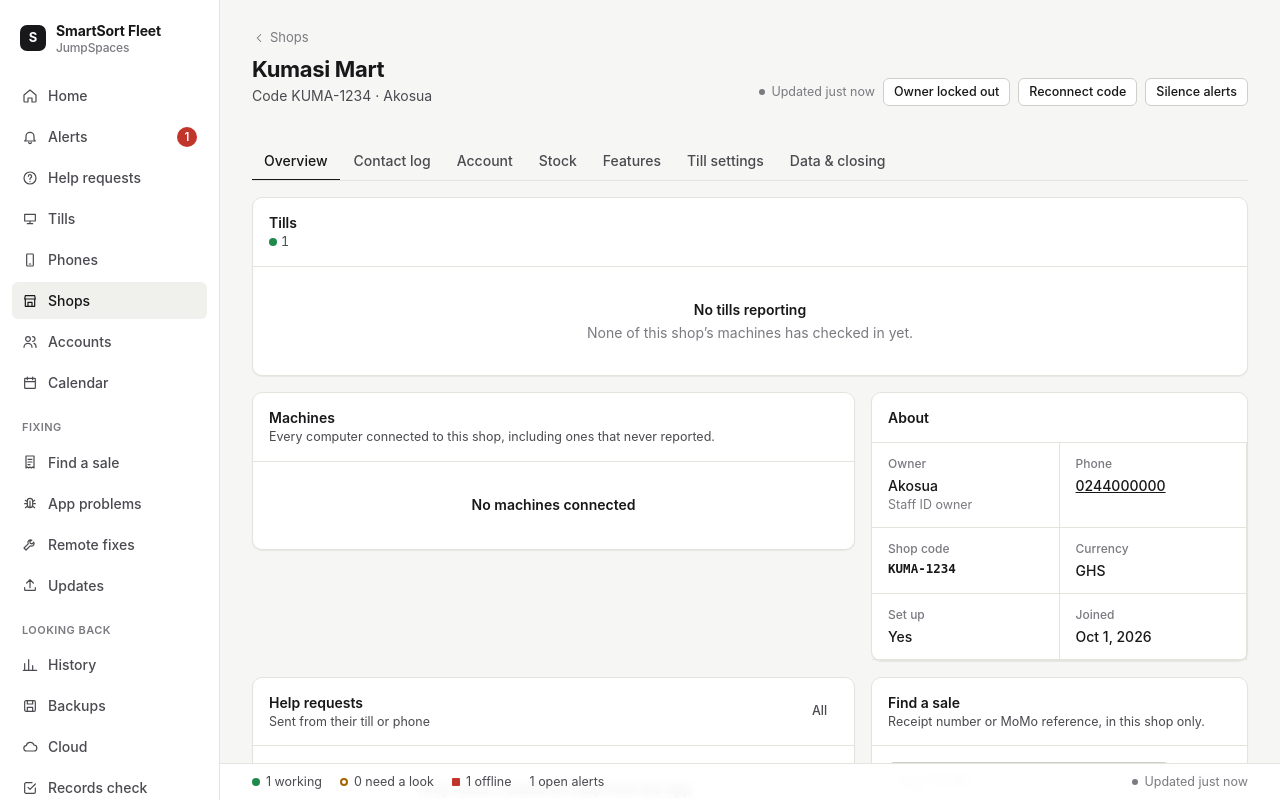
Test case: owner locked out › makes a reset code only with the operator’s password, and shows it once
Click the button "Owner locked out" at (947, 92), box [883,78,1010,106]
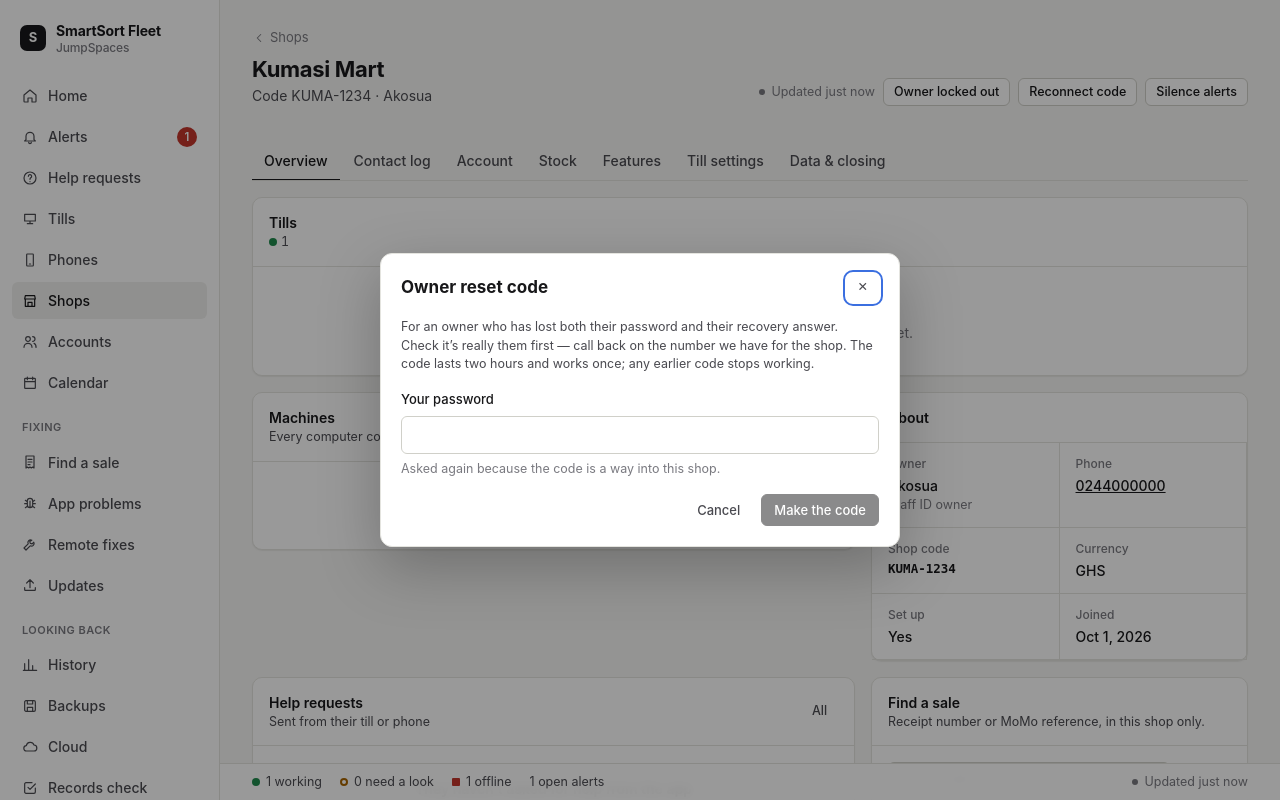
Expected: the button "Make the code" is disabled, [761,494,879,526]
Type "my-password" into the password field labelled "Your password" at (640, 434), box [401,416,879,454]
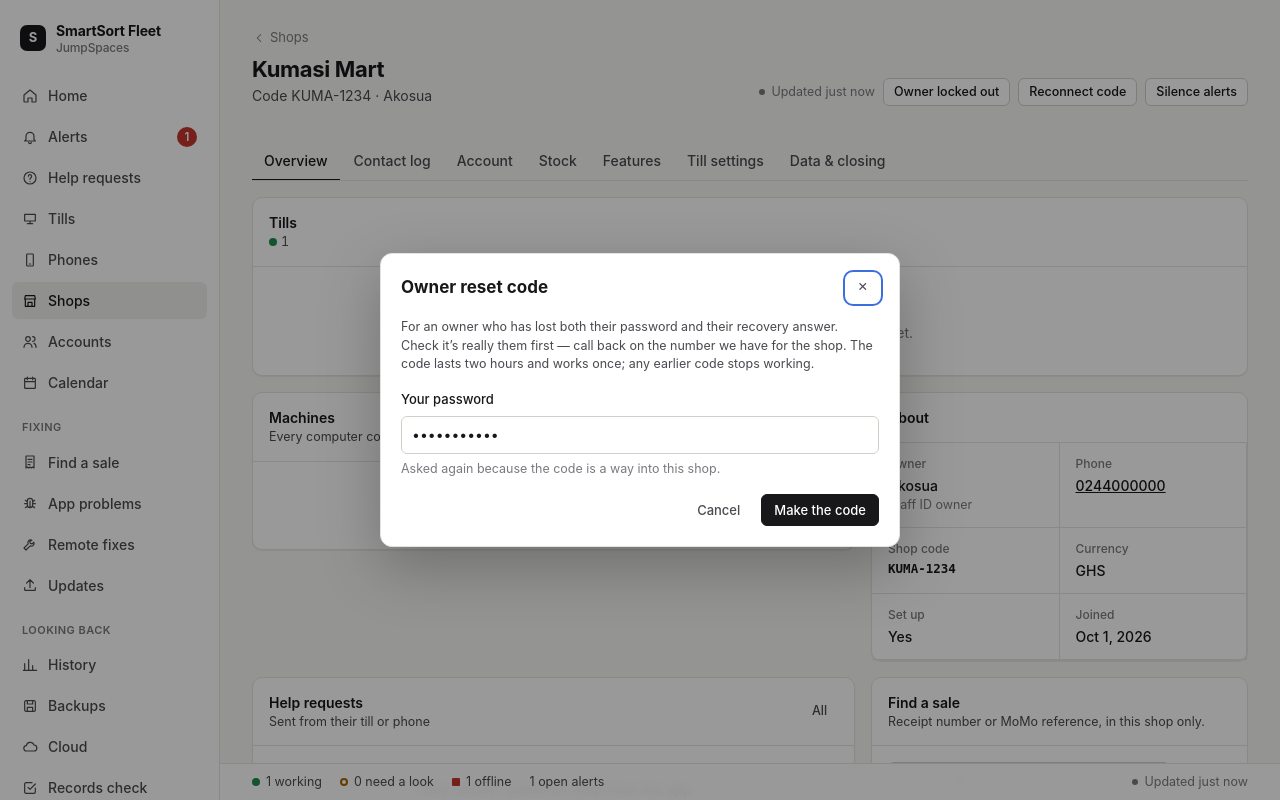
Click the button "Make the code" at (820, 510), box [761,494,879,526]
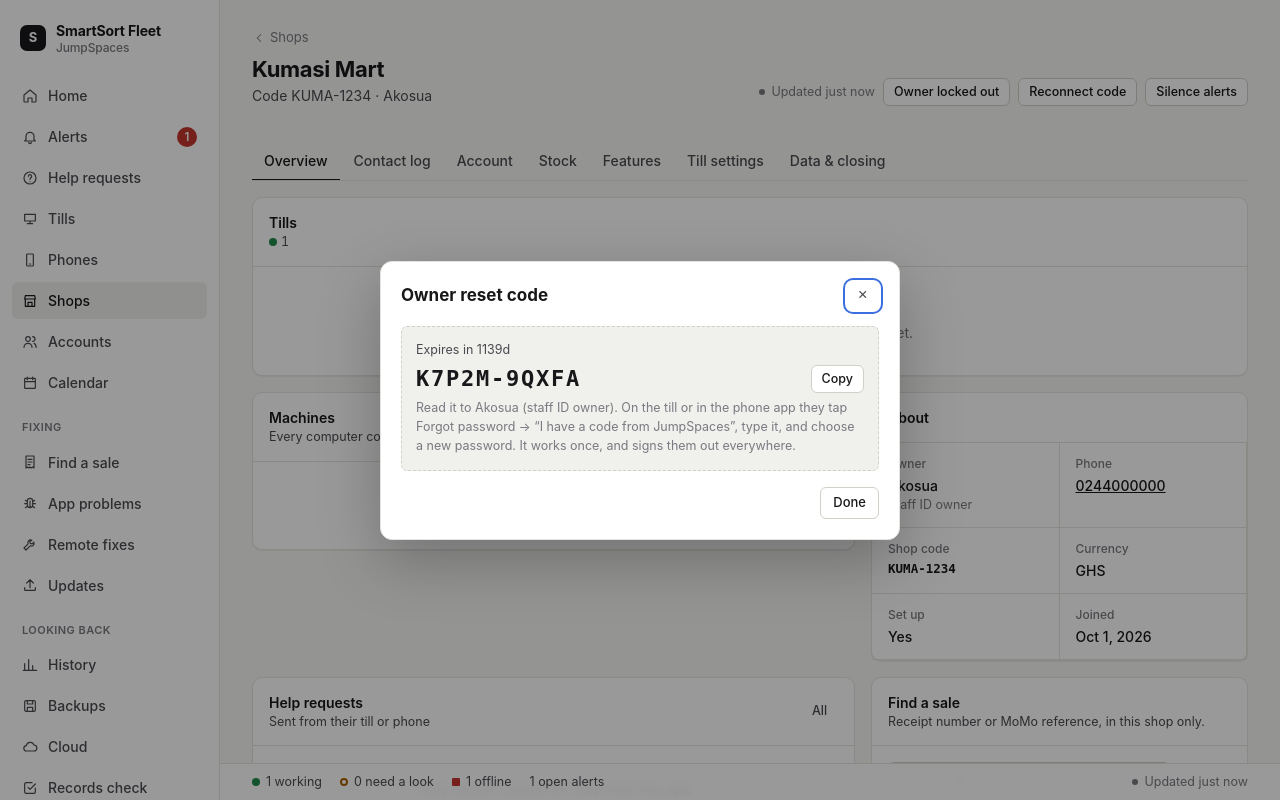
Expected: the text "K7P2M-9QXFA" is shown, [416,366,581,392]
Expected: the text "Read it to Akosua (staff ID owner)" is shown, [416,400,854,453]
